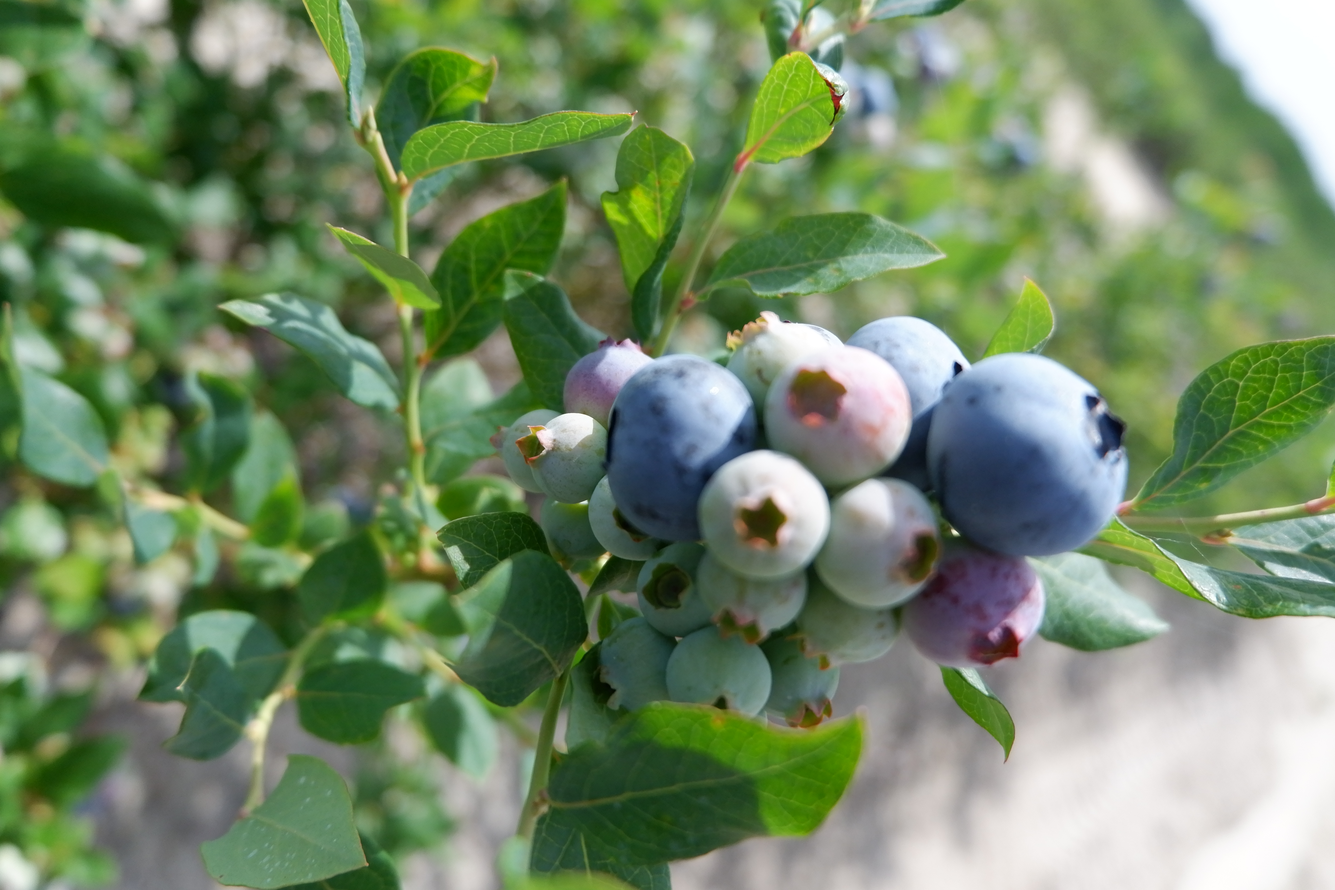Immature: (766, 351, 906, 483), (907, 543, 1042, 667), (702, 453, 828, 581), (819, 482, 939, 605), (732, 314, 840, 411), (697, 555, 807, 641), (795, 573, 901, 662), (669, 627, 770, 715), (565, 341, 650, 425), (524, 415, 605, 501), (636, 542, 710, 635), (600, 620, 674, 709), (764, 642, 839, 728), (590, 479, 660, 558), (495, 413, 549, 490), (537, 498, 600, 563)
Mature: (930, 359, 1123, 553), (608, 357, 753, 541), (841, 317, 970, 495)
